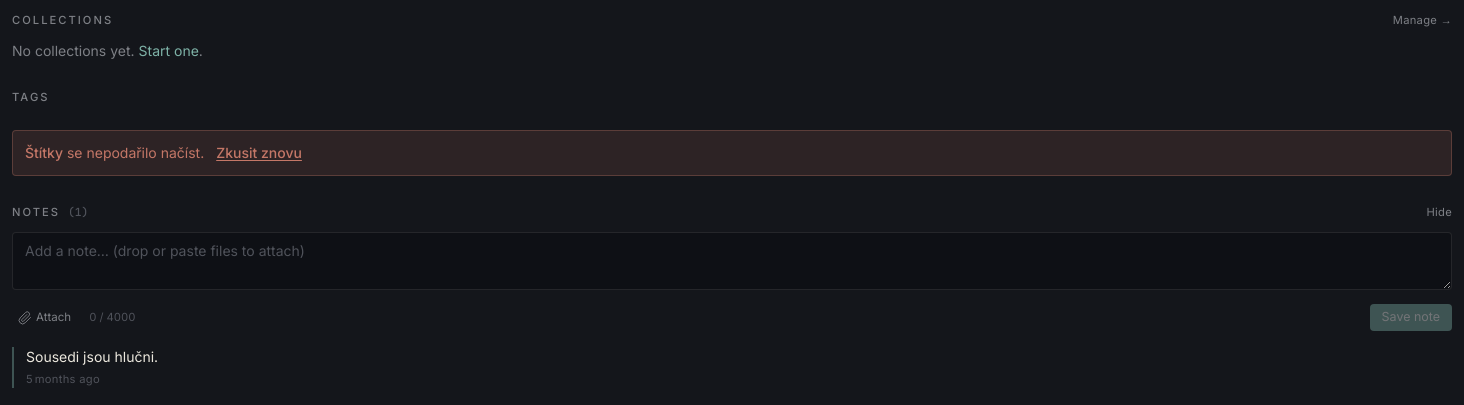
<CurationBlock> failed reads › says the tags failed instead of offering an empty picker, and reads them again
Expected: the button "Add tag" is not shown
Click the button "Zkusit znovu" at (259, 153), box [216, 143, 302, 163]
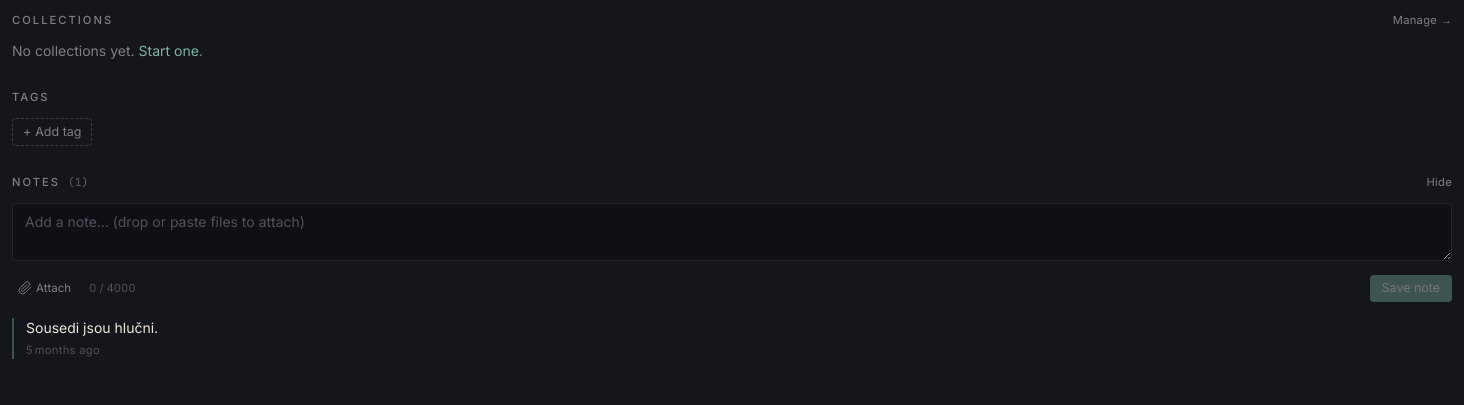
Expected: the button "+ Add tag" is shown, [12, 118, 92, 146]
